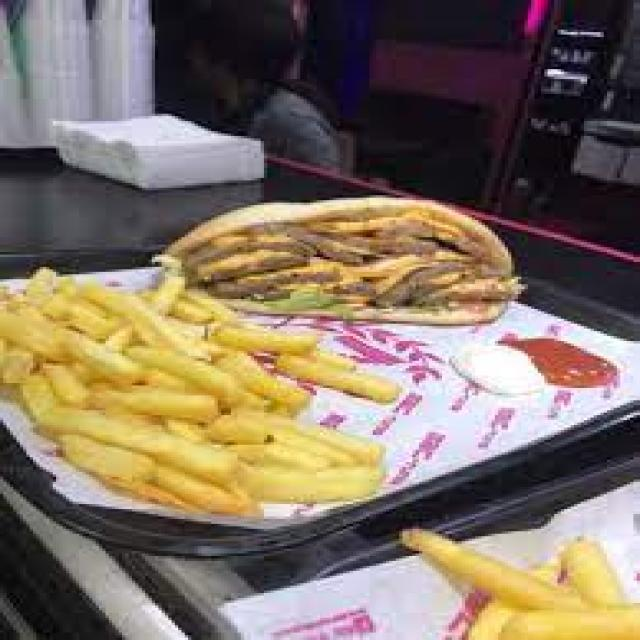Sandwitch tounsi: (186, 189, 549, 323)
